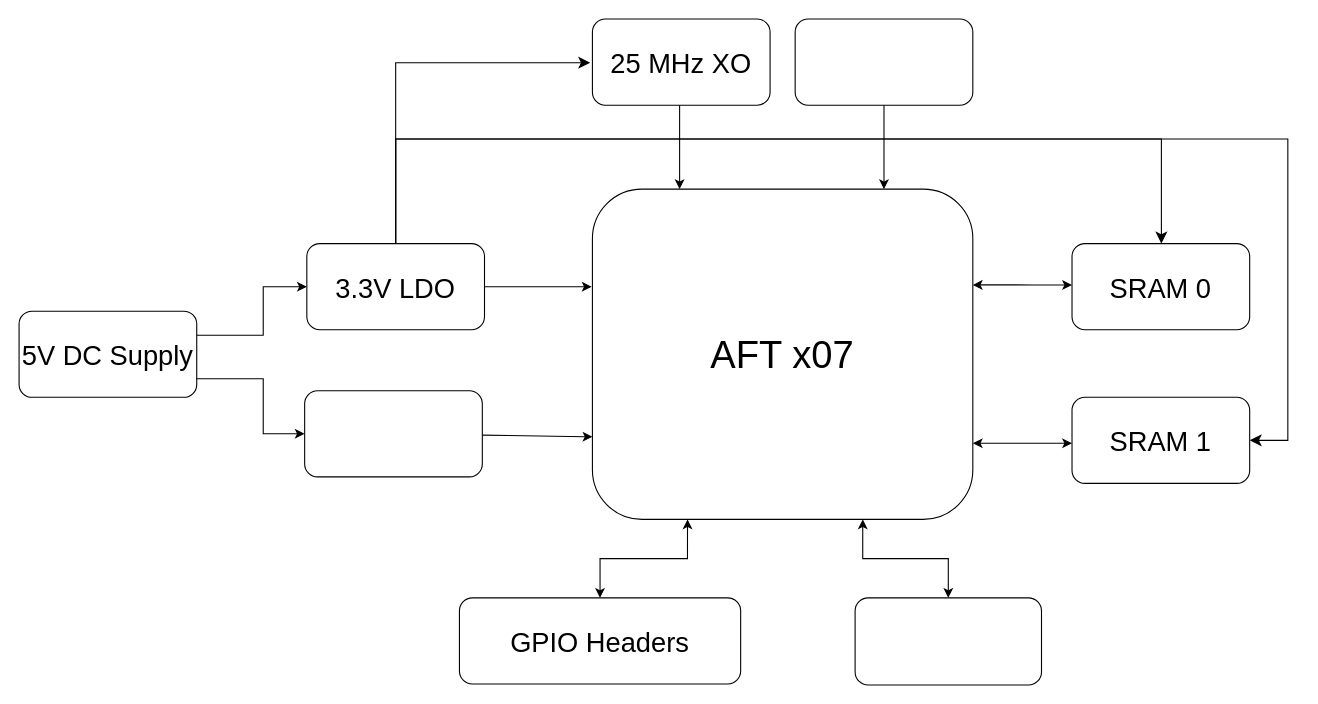
Image size: 1318x704. Some labels were removed from this diagram. The centre of each missing label's shape, as x and y in pixels:
1.8V LDO: point (393, 433)
nRST: point (883, 61)
UART Header: point (947, 641)
